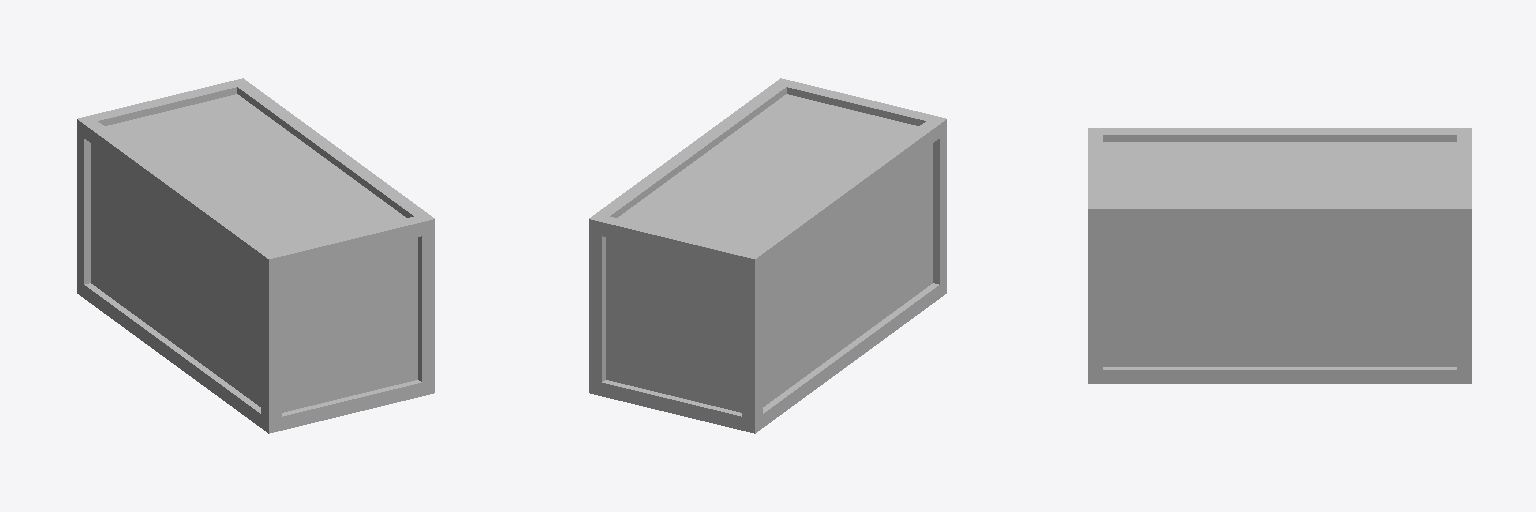
Rendered from long-crate.obj.
The picture shows the model from 3 angles: view 1: azimuth 30°, elevation 25°; view 2: azimuth 150°, elevation 25°; view 3: azimuth 270°, elevation 25°; orthographic projection.
Visible parts, largest first — view 1: SM_LongCrate_LowPoly; view 2: SM_LongCrate_LowPoly; view 3: SM_LongCrate_LowPoly.
Part boxes in pixels (x1,y1,x2,y2): SM_LongCrate_LowPoly: (77, 78, 434, 433); SM_LongCrate_LowPoly: (589, 78, 946, 433); SM_LongCrate_LowPoly: (1088, 128, 1471, 383).
Bounding box in the file's own units: 1 × 1 × 2.